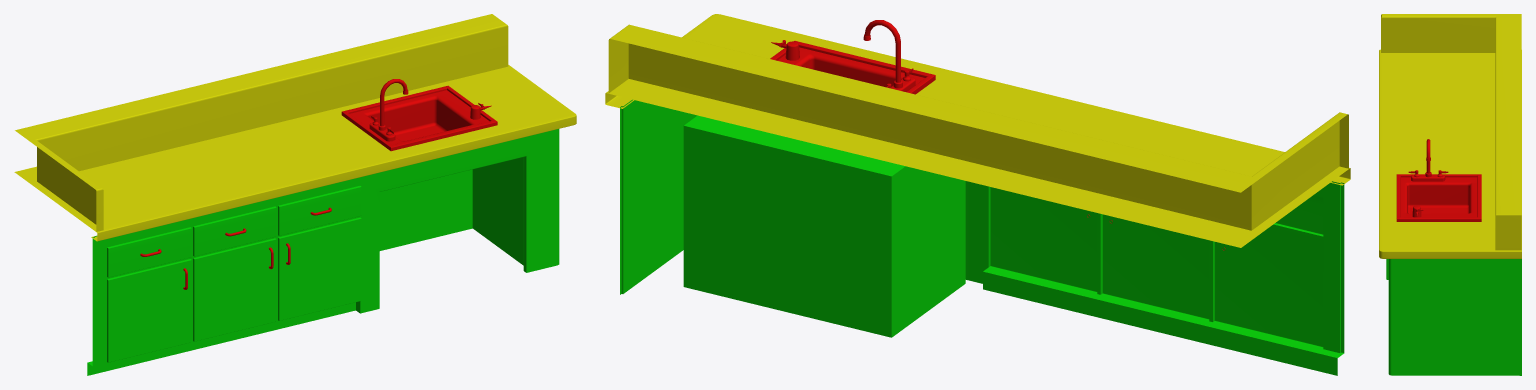
The model's file is SmallSink.fbx.
3 renders of one model, left to right at view 1: azimuth 30°, elevation 25°; view 2: azimuth 150°, elevation 25°; view 3: azimuth 270°, elevation 25°, orthographic. The views are drawn at different scales.
Parts seen in each view (by area): view 1: SmallSink; view 2: SmallSink; view 3: SmallSink.
Part boxes in pixels (x1,y1,x2,y2): SmallSink: (14, 14, 576, 375); SmallSink: (605, 14, 1350, 375); SmallSink: (1379, 14, 1521, 375).
Size of the model in its own units: 3.28 by 1.33 by 0.981.
